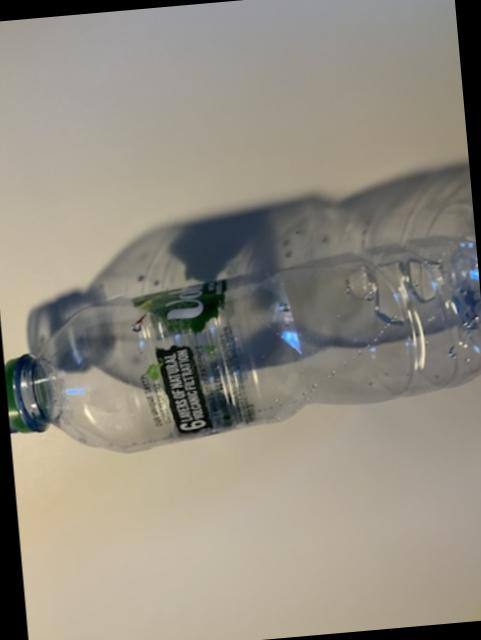plastic: (3, 163, 481, 450)
